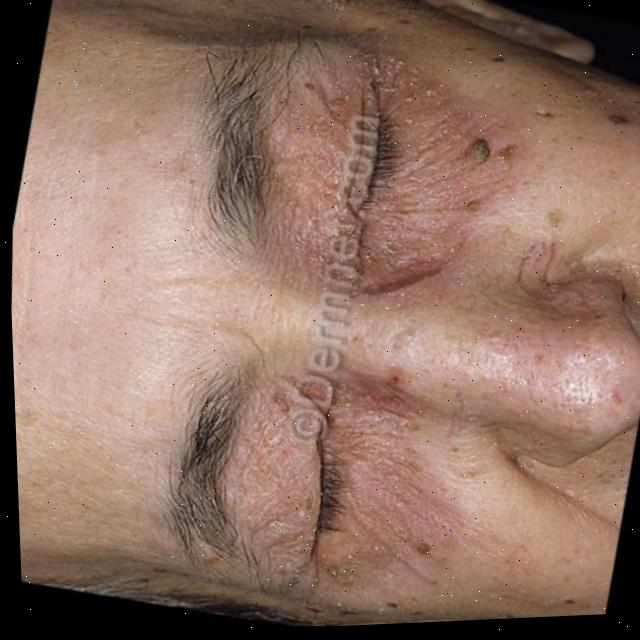Eczema: (249, 39, 519, 305), (225, 362, 460, 619)
